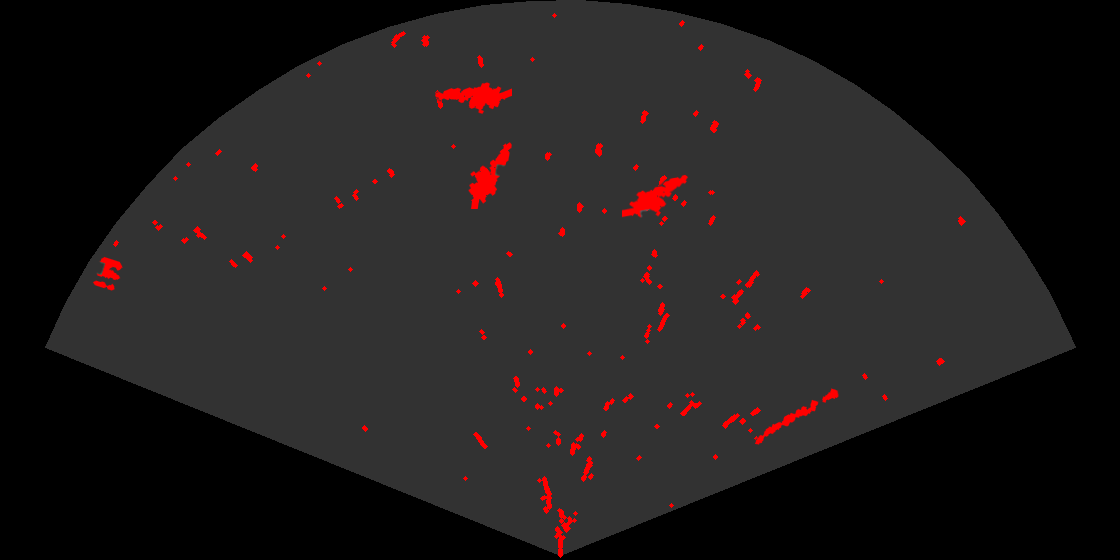ball: (91, 255, 124, 292)
chain: (753, 387, 841, 446)
frogman: (467, 141, 513, 209), (622, 173, 690, 219), (434, 81, 512, 115)
